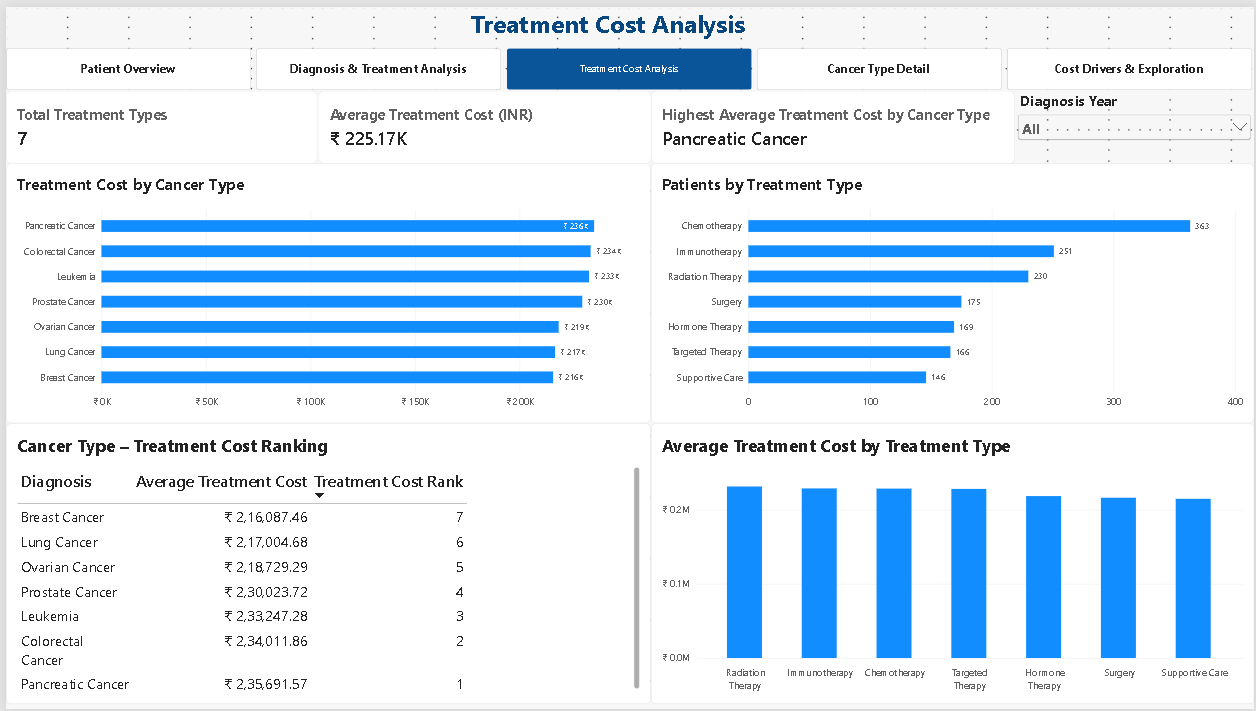

The dashboard page shown, as its layout file describes it:
{"tool":"powerbi","page":{"name":"Treatment Cost Analysis","canvas":[1920,1080],"ordinal":2},"visuals":[{"type":"clusteredBarChart","title":"Treatment Cost by Cancer Type","fields":{"Category":["Patient Data.Diagnosis"],"Y":["Patient Data.Average Treatment Cost"]},"box":[0,240,992,400],"z":0},{"type":"clusteredBarChart","title":"Patients by Treatment Type","fields":{"Category":["Patient Data.Treatment Type"],"Y":["Patient Data.Total Patients"]},"box":[992,240,928,400],"z":1000},{"type":"tableEx","title":"Cancer Type – Treatment Cost Ranking","fields":{"Values":["Patient Data.Diagnosis","Patient Data.Average Treatment Cost","Patient Data.Treatment Cost Rank"]},"box":[0,640,992,432],"z":2000},{"type":"cardVisual","title":"Total Treatment Cost (INR)","fields":{"Data":["Patient Data.Total Treatment Types"]},"box":[0,128,480,112],"z":3000},{"type":"cardVisual","title":"Average Treatment Cost (INR)","fields":{"Data":["Patient Data.Average Treatment Cost"]},"box":[480,128,512,112],"z":4000},{"type":"cardVisual","fields":{"Data":["Patient Data.Highest Cost Cancer Type"]},"box":[992,128,560,112],"z":5000},{"type":"clusteredColumnChart","title":"Average Treatment Cost by Treatment Type","fields":{"Category":["Patient Data.Treatment Type"],"Y":["Patient Data.Average Treatment Cost"]},"box":[992,640,928,432],"z":6000},{"type":"slicer","fields":{"Values":["Patient Data.Diagnosis Year"]},"box":[1552,128,368,128],"z":7000},{"type":"textbox","box":[336,0,992,112],"z":7001},{"type":"pageNavigator","box":[0,64,1920,64],"z":7002}]}

Visuals, with their boxes in screenshot pixels (x1, y1, x2, y2), scaled from the page's 1920x1080 canvas onto the 1256x711 screenshot:
"Treatment Cost by Cancer Type" clusteredBarChart: [x1=0, y1=158, x2=649, y2=421]
"Patients by Treatment Type" clusteredBarChart: [x1=649, y1=158, x2=1255, y2=421]
"Cancer Type – Treatment Cost Ranking" tableEx: [x1=0, y1=421, x2=649, y2=706]
"Total Treatment Cost (INR)" cardVisual: [x1=0, y1=84, x2=314, y2=158]
"Average Treatment Cost (INR)" cardVisual: [x1=314, y1=84, x2=649, y2=158]
cardVisual - Patient Data.Highest Cost Cancer Type: [x1=649, y1=84, x2=1015, y2=158]
"Average Treatment Cost by Treatment Type" clusteredColumnChart: [x1=649, y1=421, x2=1255, y2=706]
slicer - Patient Data.Diagnosis Year: [x1=1015, y1=84, x2=1255, y2=169]
textbox: [x1=220, y1=0, x2=869, y2=74]
pageNavigator: [x1=0, y1=42, x2=1255, y2=84]
